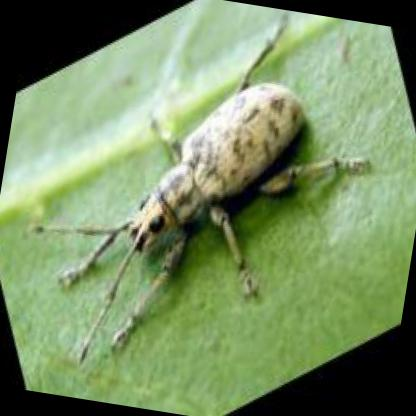ash weevil: (62, 18, 355, 341)
